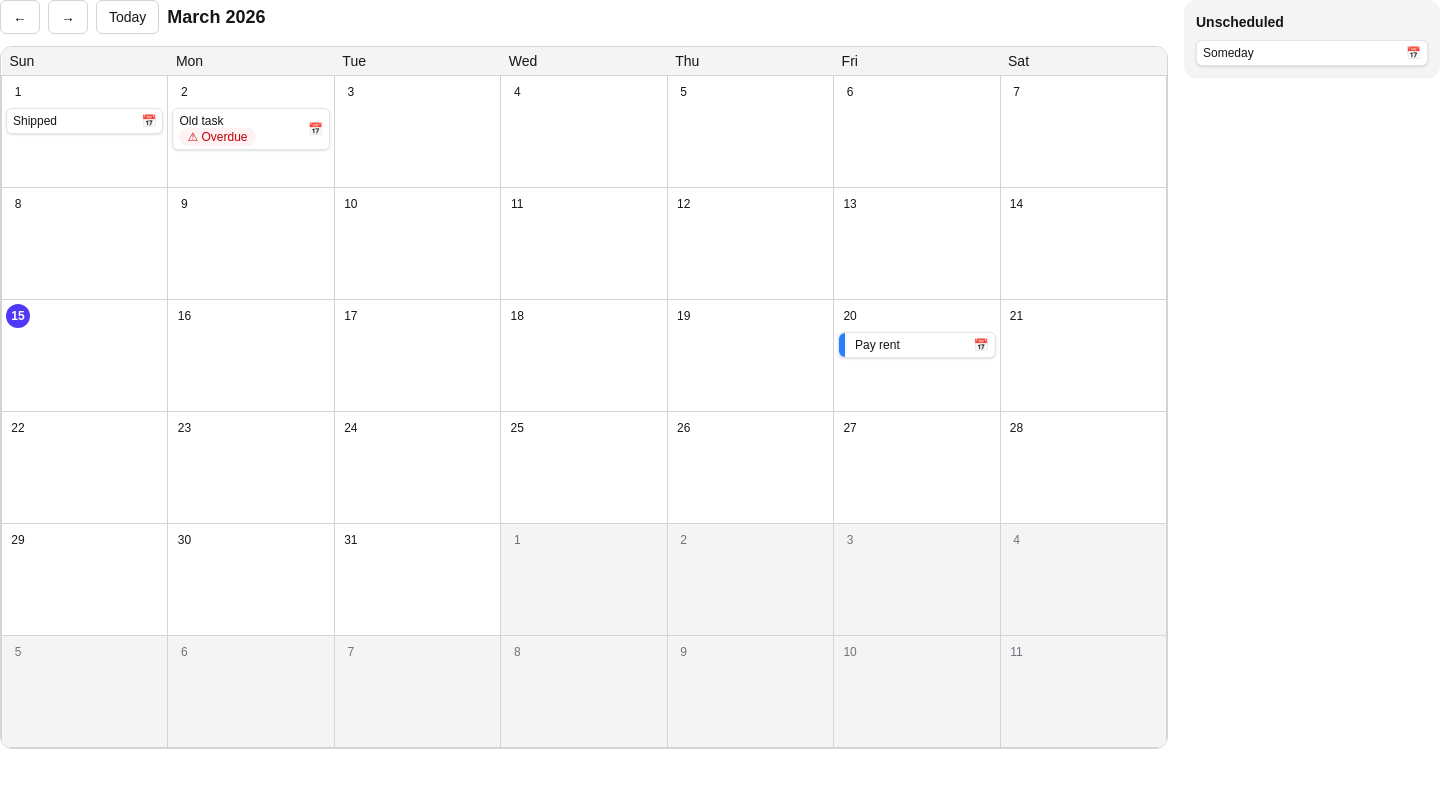
<CalendarView /> › moves a card to a date with the Move to date dialog and records the activity
The width and height of the screenshot is (1440, 810).
Click the button named "Move Pay rent to date" at [981, 345], box [968,333,995,357]
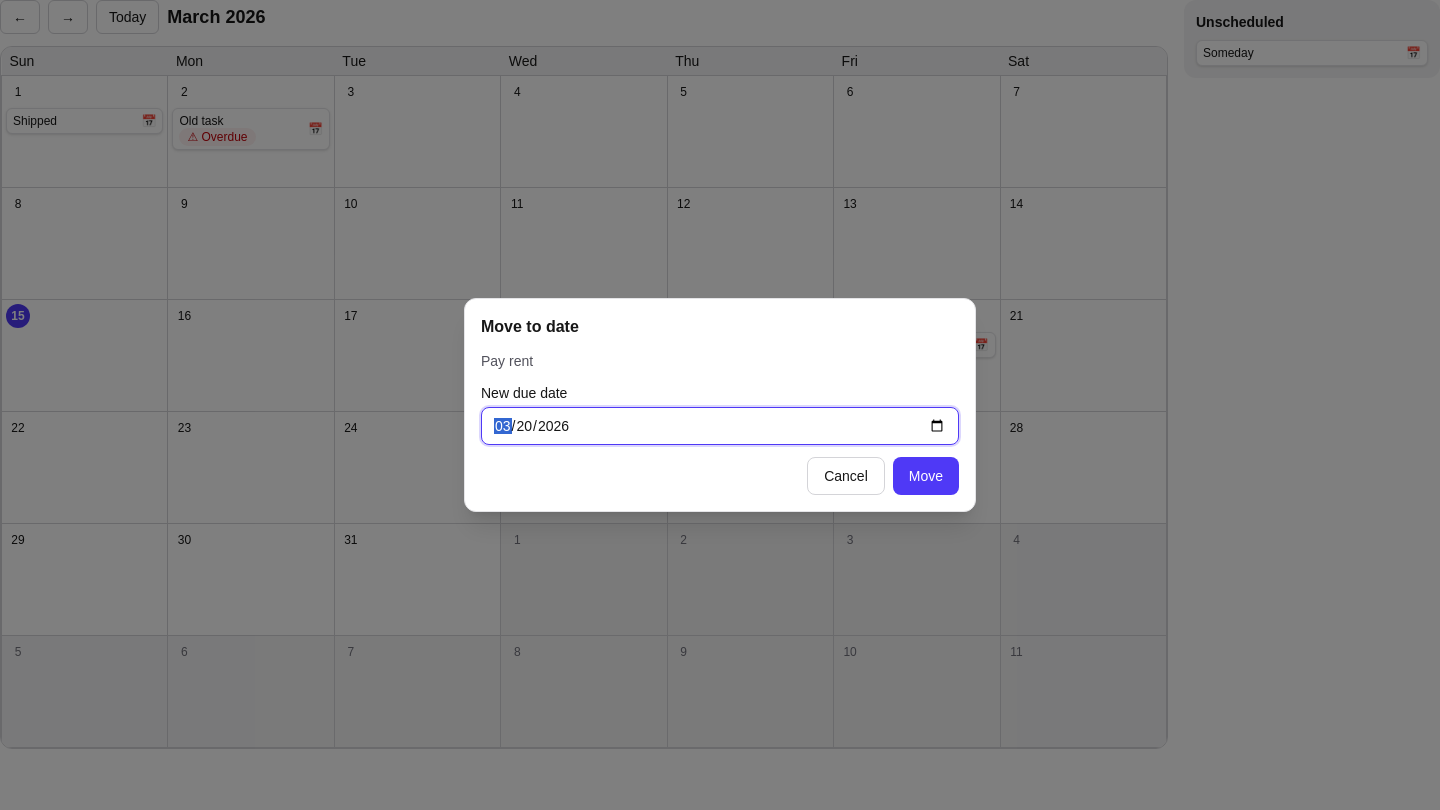
Expected: the date field labelled "New due date" holds "2026-03-20"
Type "2026-03-25" into the date field labelled "New due date" at [720, 426], box [481,407,959,445]
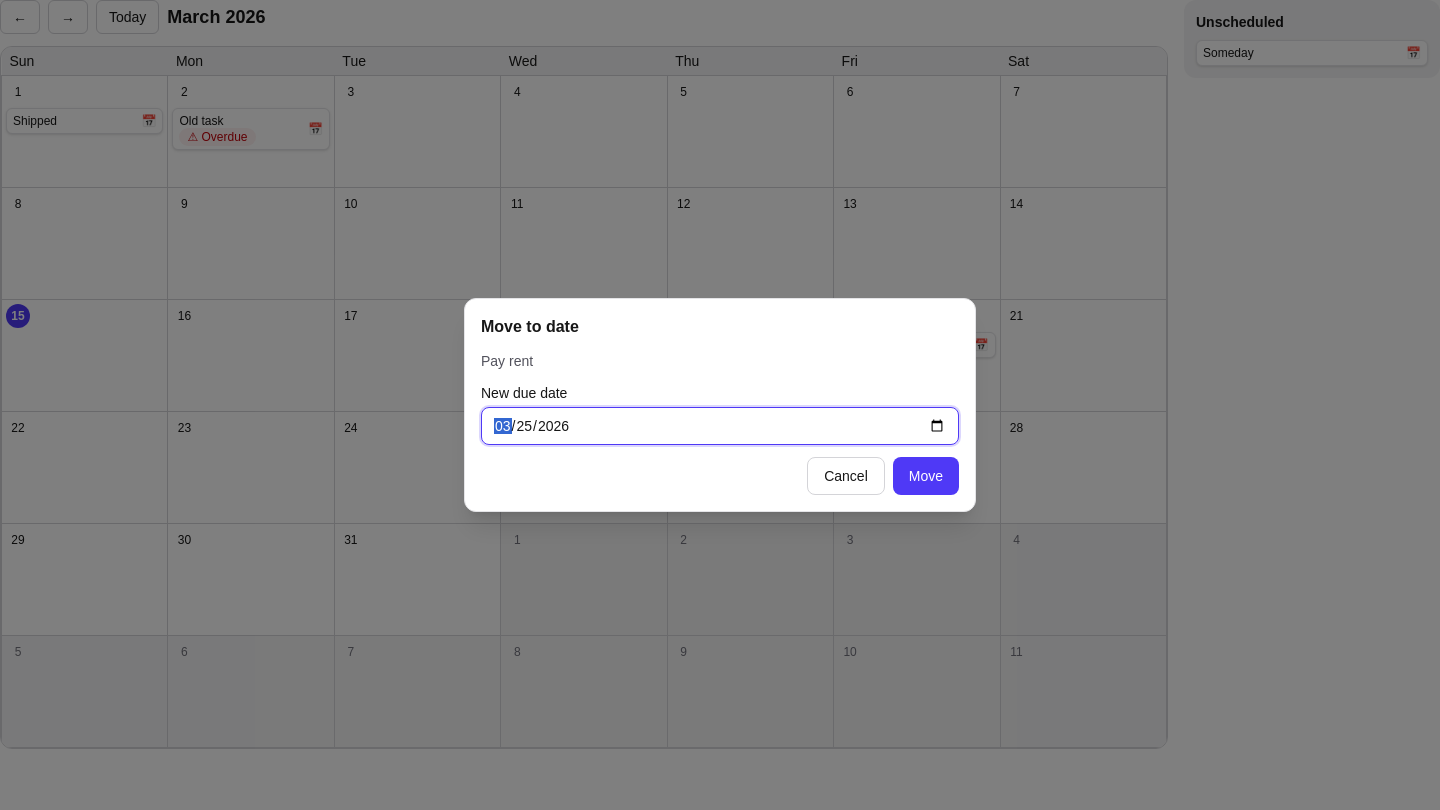
Click the button "Move" at [926, 476], box [893,457,959,495]
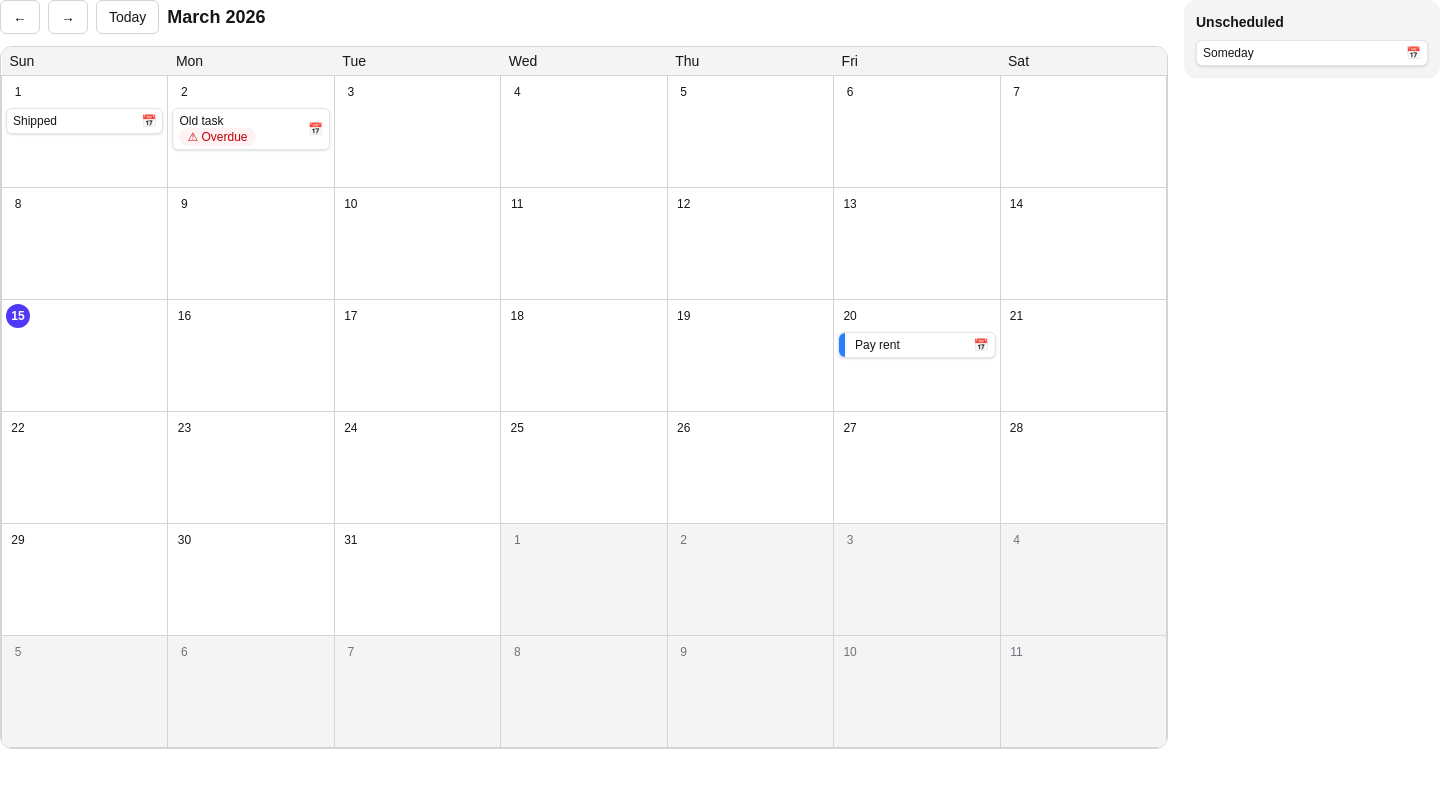
Expected: the dialog is gone
